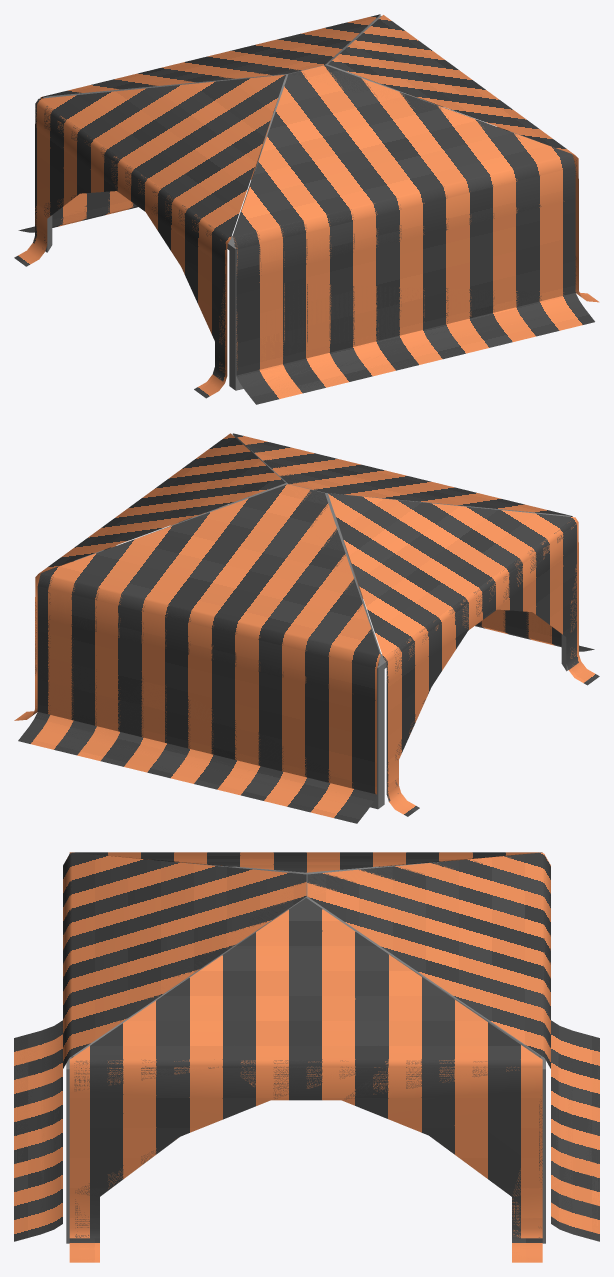
Rendered from Tent_Open.fbx.
The picture shows the model from 3 angles, top to bottom: view 1: azimuth 30°, elevation 25°; view 2: azimuth 150°, elevation 25°; view 3: azimuth 270°, elevation 25°; orthographic projection. The views are drawn at different scales.
Parts seen in each view (by area): view 1: Tent; view 2: Tent; view 3: Tent.
Boxes of the visible parts, x1,y1,x2,y2 form: Tent: (14, 14, 599, 404); Tent: (14, 433, 599, 823); Tent: (14, 852, 599, 1262).
Size of the model in its own units: 1283 by 656 by 1344.
2 materials, 2 textured.
